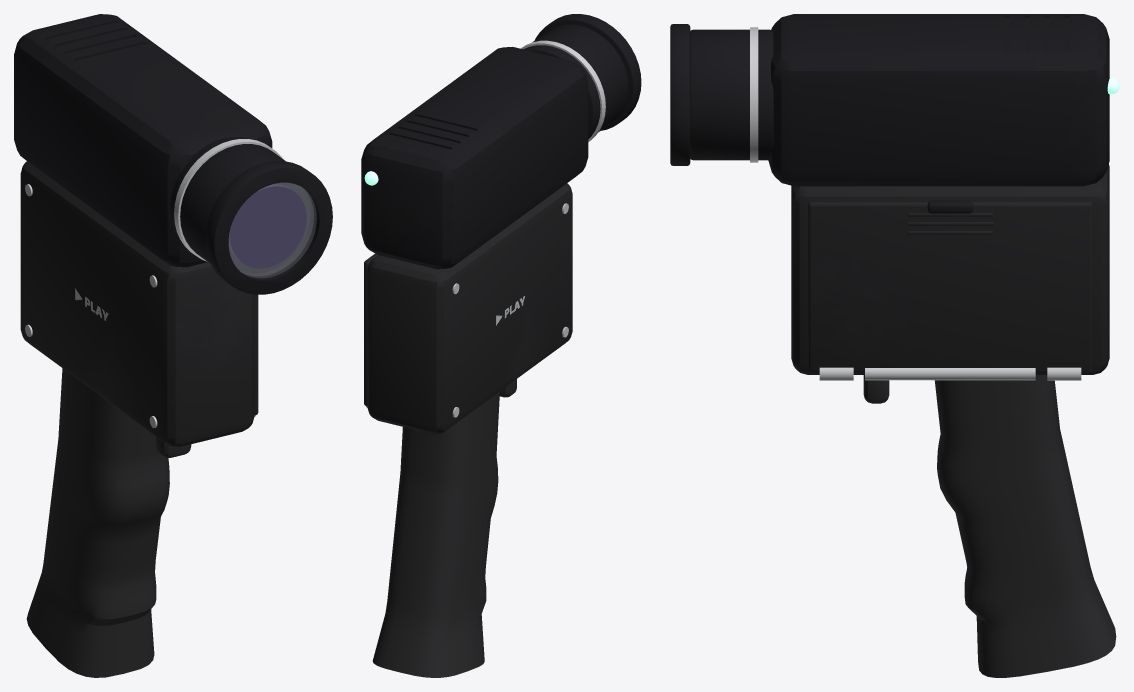
Rendered from TapePlayer.glb.
3 renders of one model, left to right at view 1: azimuth 30°, elevation 25°; view 2: azimuth 150°, elevation 25°; view 3: azimuth 270°, elevation 25°, orthographic. The views are drawn at different scales.
Parts seen in each view (by area): view 1: Body, Handle, Lens, Door; view 2: Body, Handle, Door; view 3: Body, Door, Handle.
Boxes of the visible parts, x1,y1,x2,y2 form: Body: (14,14,332,457); Handle: (26,368,169,677); Lens: (229,183,316,277); Door: (254,294,258,415); Body: (361,14,641,433); Handle: (372,391,499,677); Door: (364,253,377,406); Body: (670,14,1109,403); Door: (808,200,1092,380); Handle: (934,375,1116,677).
Size of the model in its own units: 0.1458 by 0.7141 by 0.4608.
Materials: 5 (3 with a texture image).
